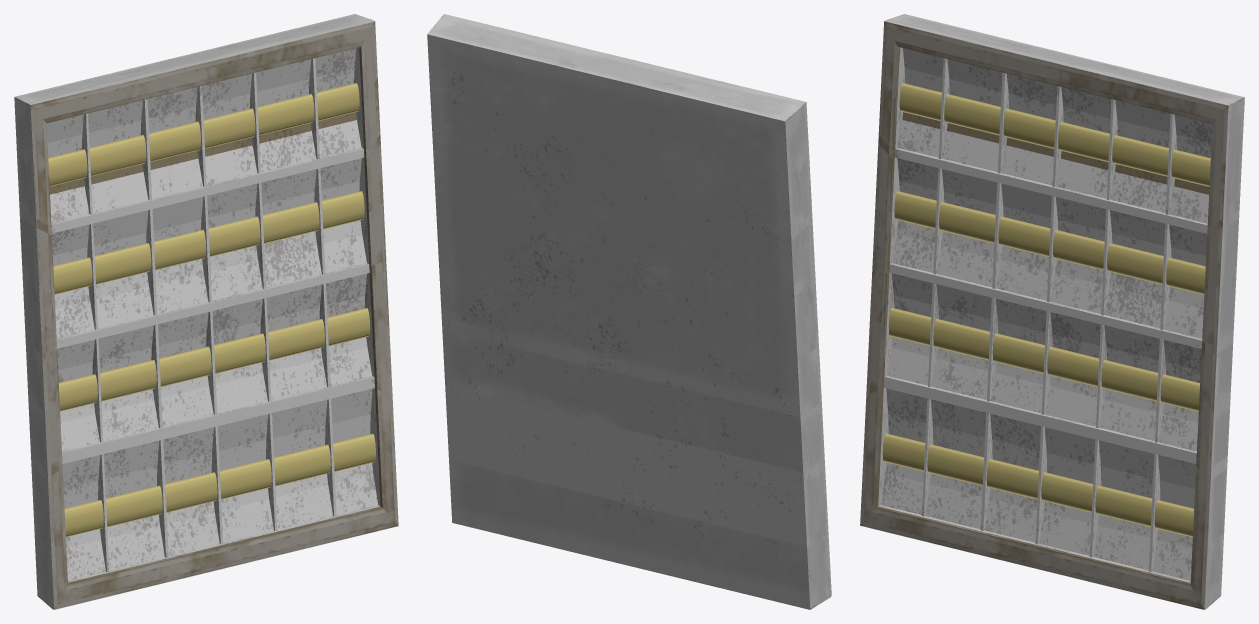
The model's file is lightbox.fbx.
The picture shows the model from 3 angles, left to right: view 1: azimuth 30°, elevation 25°; view 2: azimuth 150°, elevation 25°; view 3: azimuth 330°, elevation 25°; orthographic projection. The views are drawn at different scales.
Parts seen in each view (by area): view 1: LightBox; view 2: LightBox; view 3: LightBox.
Part boxes in pixels (bbox=[...]): LightBox: bbox=[14, 14, 398, 609]; LightBox: bbox=[427, 14, 831, 609]; LightBox: bbox=[860, 14, 1244, 609].
Bounding box in the file's own units: 89.17 × 121 × 18.82.
